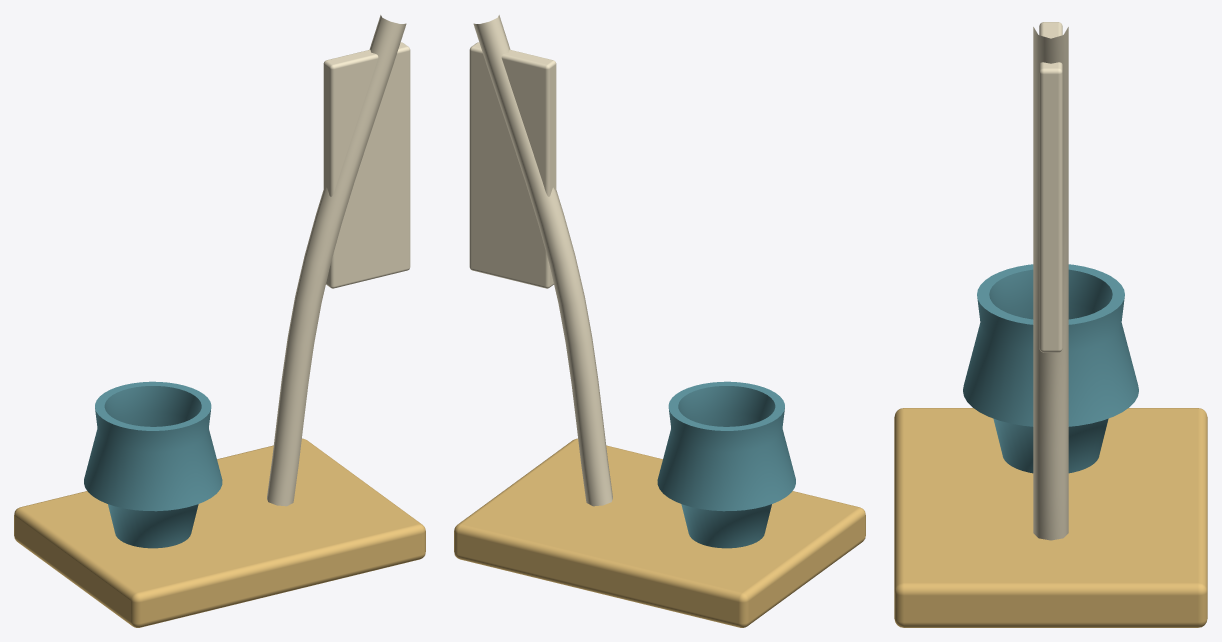
File: royal-court-and-throne-palace-inkwell-and-quill-68fa534e__29401.glb
The picture shows the model from 3 angles, left to right: view 1: azimuth 30°, elevation 25°; view 2: azimuth 150°, elevation 25°; view 3: azimuth 270°, elevation 25°; orthographic projection. The views are drawn at different scales.
Visible parts, largest first — view 1: inkwell-and-quill; view 2: inkwell-and-quill; view 3: inkwell-and-quill.
Part boxes in pixels (x1,y1,x2,y2): inkwell-and-quill: (14, 15, 425, 627); inkwell-and-quill: (454, 15, 865, 627); inkwell-and-quill: (894, 22, 1207, 627).
Bounding box in the file's own units: 0.25 × 0.353 × 0.16.
